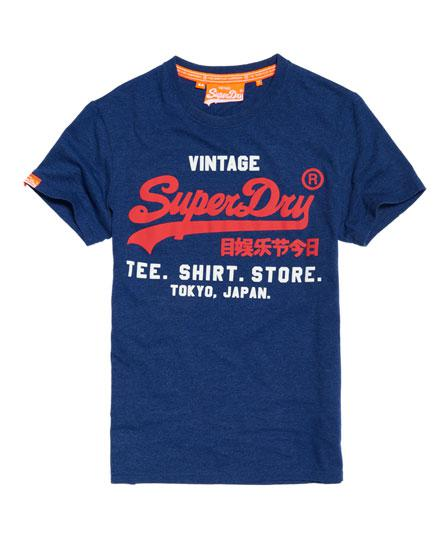teeshirt: (19, 54, 429, 499)
